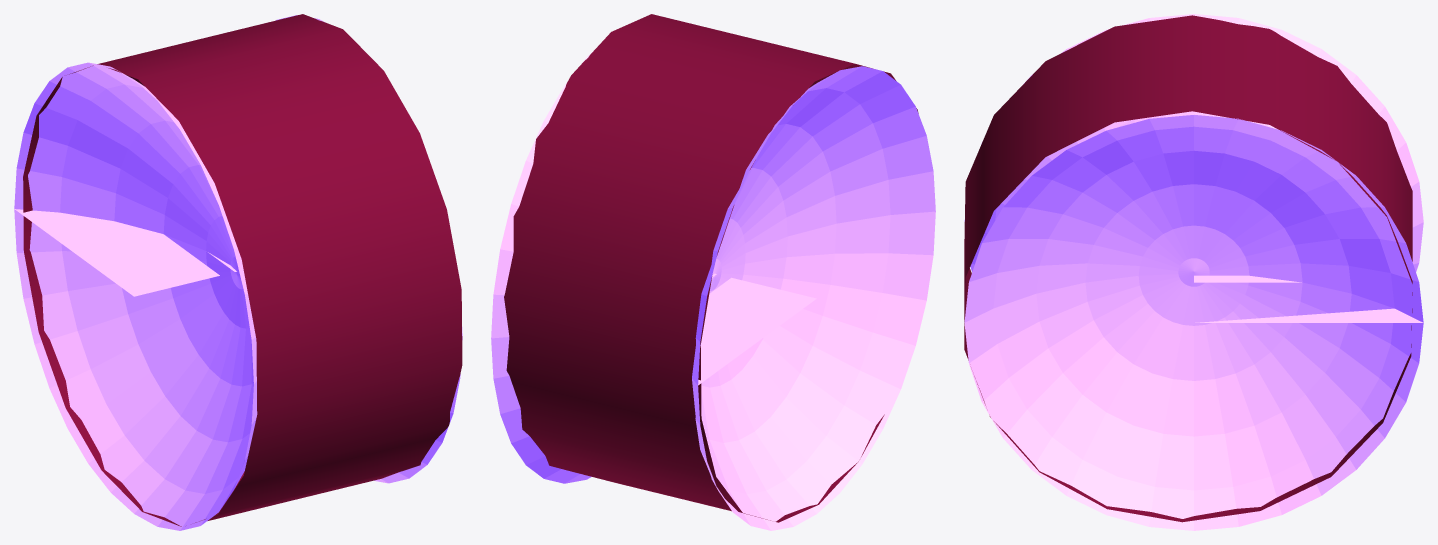
Rendered from lens_concave.DAE.
3 renders of one model, left to right at view 1: azimuth 30°, elevation 25°; view 2: azimuth 150°, elevation 25°; view 3: azimuth 270°, elevation 25°, orthographic. The views are drawn at different scales.
Visible parts, largest first — view 1: Cylinder01, Sphere01, Sphere02; view 2: Cylinder01, Sphere01, Sphere02; view 3: Sphere02, Cylinder01, Sphere01.
Boxes of the visible parts, x1,y1,x2,y2 form: Cylinder01: (23, 14, 462, 526); Sphere01: (14, 62, 257, 530); Sphere02: (230, 15, 462, 483); Cylinder01: (504, 14, 918, 522); Sphere01: (692, 66, 935, 530); Sphere02: (491, 51, 721, 483); Sphere02: (964, 115, 1423, 530); Cylinder01: (964, 15, 1412, 522); Sphere01: (964, 14, 1423, 286).
Bounding box in the file's own units: 61.01 × 121 × 122.
